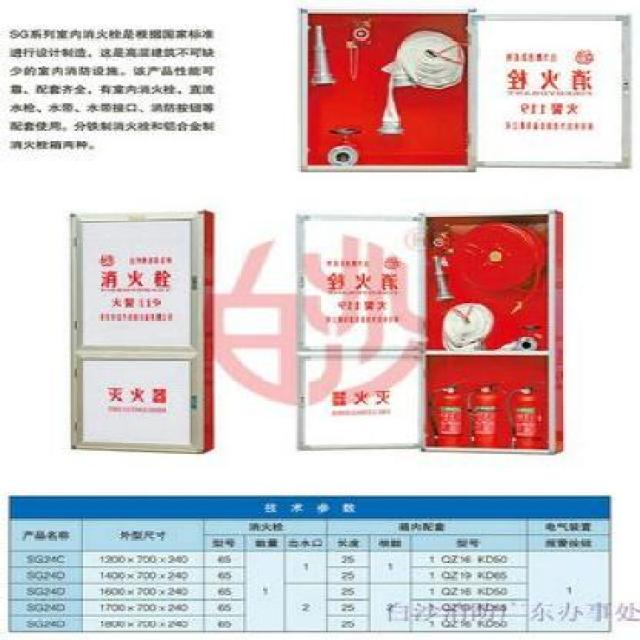firehydrant: (289, 203, 573, 460), (290, 1, 638, 177), (63, 203, 223, 460)
